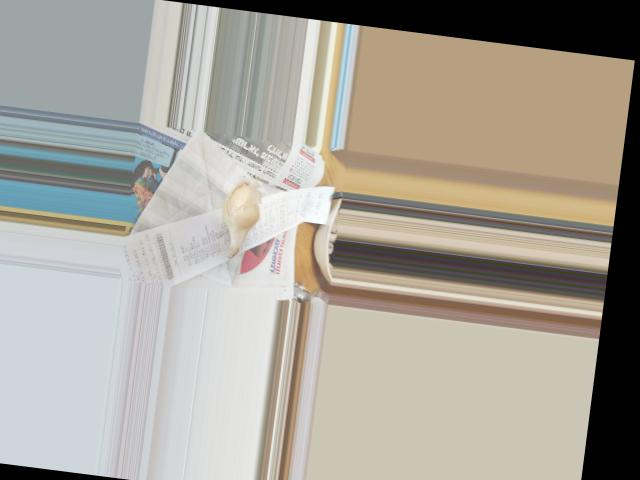onion: (216, 184, 263, 241)
